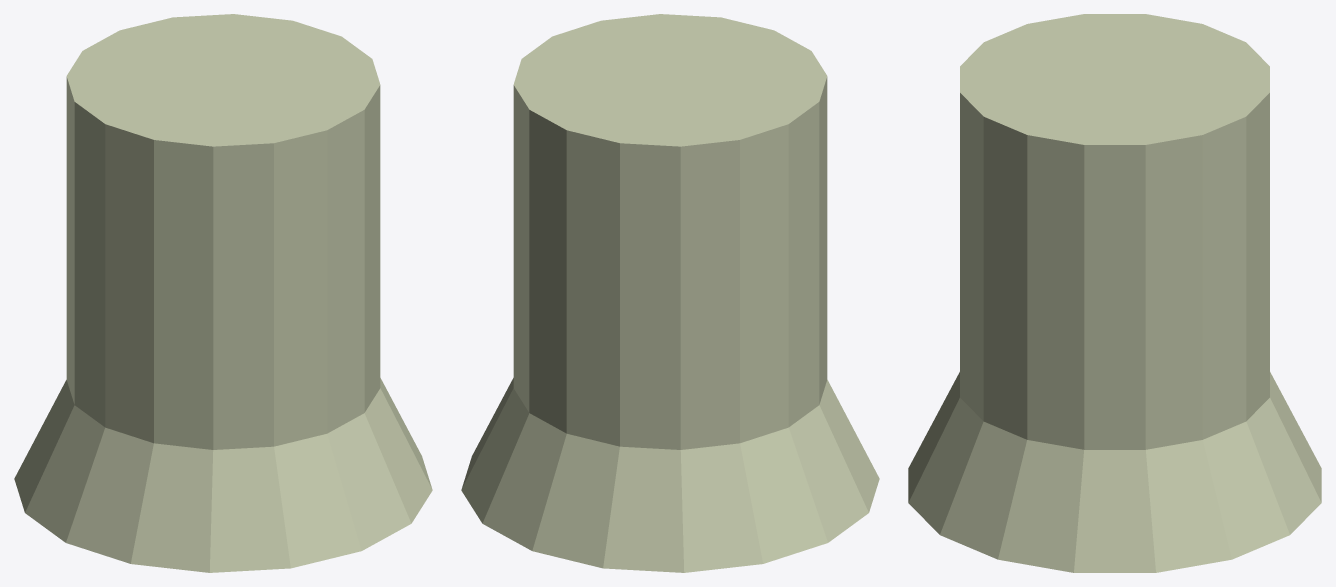
Rendered from Eridani_Crew_1_Collider.obj.
3 views of the same model, side by side, from view 1: azimuth 30°, elevation 25°; view 2: azimuth 150°, elevation 25°; view 3: azimuth 270°, elevation 25° (orthographic).
Parts seen in each view (by area): view 1: Eridani_Crew_1_Collider1, Eridani_Crew_1_Collider2; view 2: Eridani_Crew_1_Collider1, Eridani_Crew_1_Collider2; view 3: Eridani_Crew_1_Collider1, Eridani_Crew_1_Collider2.
Boxes of the visible parts, left/top/right/bottom form: Eridani_Crew_1_Collider1: left=66, top=14, right=380, bottom=449; Eridani_Crew_1_Collider2: left=14, top=378, right=432, bottom=572; Eridani_Crew_1_Collider1: left=513, top=14, right=827, bottom=449; Eridani_Crew_1_Collider2: left=461, top=378, right=879, bottom=572; Eridani_Crew_1_Collider1: left=960, top=14, right=1269, bottom=449; Eridani_Crew_1_Collider2: left=908, top=372, right=1321, bottom=572.
Size of the model in its own units: 2.5 by 2.71 by 2.5.
